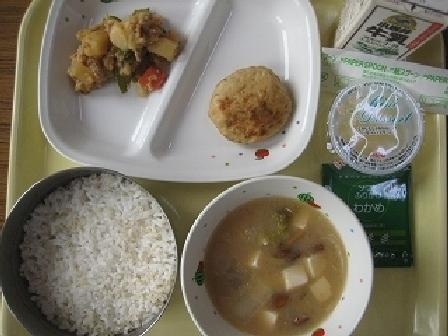Cup desserts: (325, 77, 426, 174)
Milk: (328, 1, 447, 53)
Rice: (4, 165, 184, 335)
Soups: (188, 185, 371, 335)
cutlet: (202, 65, 292, 149)
vegetable based cooked food: (59, 5, 180, 97)
